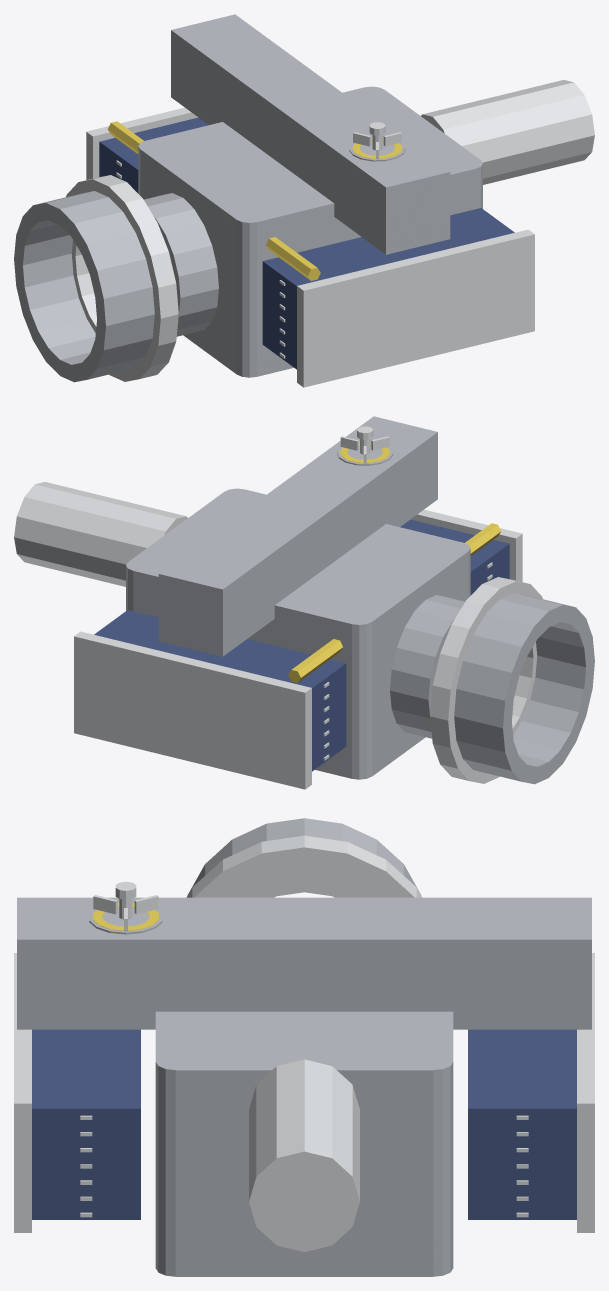
Rendered from orbital-station-and-docking-bays-solar-array-canister--385f4bb4__24542.glb.
3 renders of one model, top to bottom at view 1: azimuth 30°, elevation 25°; view 2: azimuth 150°, elevation 25°; view 3: azimuth 270°, elevation 25°, orthographic. The views are drawn at different scales.
Visible parts, largest first — view 1: solar-array-canister-stowed; view 2: solar-array-canister-stowed; view 3: solar-array-canister-stowed.
Part boxes in pixels (left/top/right/bottom): solar-array-canister-stowed: left=14, top=14, right=594, bottom=387; solar-array-canister-stowed: left=14, top=416, right=594, bottom=789; solar-array-canister-stowed: left=14, top=818, right=594, bottom=1276.
Size of the model in its own units: 4 by 1.85 by 2.93.
